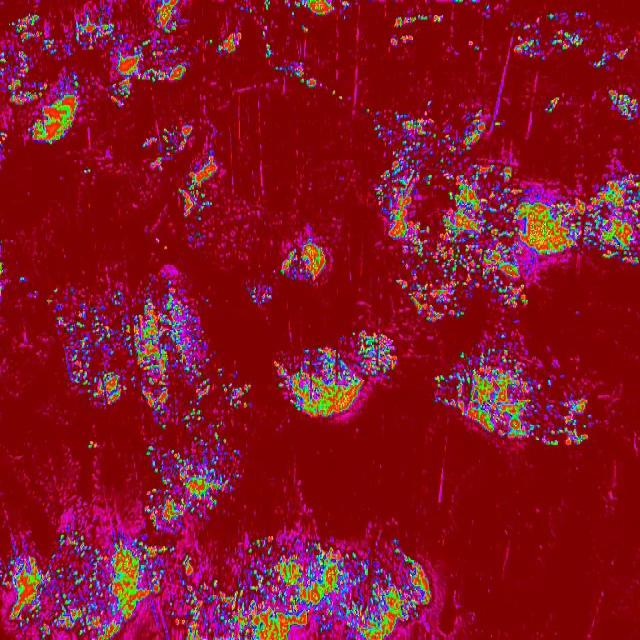fire: (0, 530, 430, 640), (362, 102, 528, 323), (44, 276, 225, 430), (434, 333, 590, 449), (272, 326, 401, 419), (89, 0, 195, 110), (526, 173, 640, 272), (143, 432, 246, 530), (141, 121, 225, 223), (0, 54, 50, 105), (278, 238, 328, 282), (388, 13, 442, 52), (8, 12, 58, 54), (24, 106, 78, 144), (272, 59, 322, 91), (226, 374, 254, 414), (607, 86, 639, 120), (284, 0, 334, 20), (53, 72, 83, 104), (205, 30, 241, 56), (594, 46, 632, 68), (245, 278, 272, 308), (511, 33, 542, 59), (552, 29, 584, 53), (76, 13, 90, 52), (544, 96, 562, 114), (258, 20, 272, 40), (260, 41, 274, 60), (0, 127, 9, 151), (548, 8, 560, 24), (300, 22, 313, 36), (331, 88, 344, 102), (85, 438, 98, 451), (82, 164, 96, 175), (262, 0, 276, 11), (523, 19, 534, 32), (485, 2, 492, 22), (574, 10, 588, 19), (243, 4, 255, 14), (340, 0, 350, 11), (472, 44, 483, 54), (17, 275, 28, 285), (0, 259, 5, 279), (450, 0, 466, 5), (342, 15, 348, 23), (470, 0, 479, 4)
